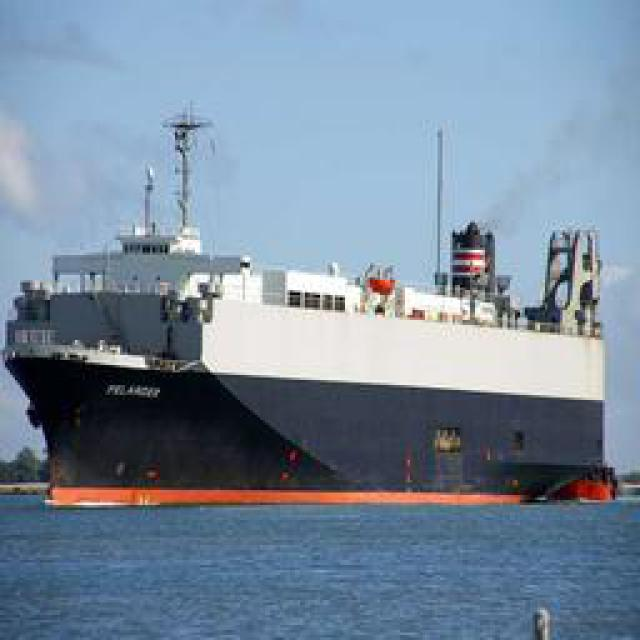Ship: (16, 110, 624, 513)
